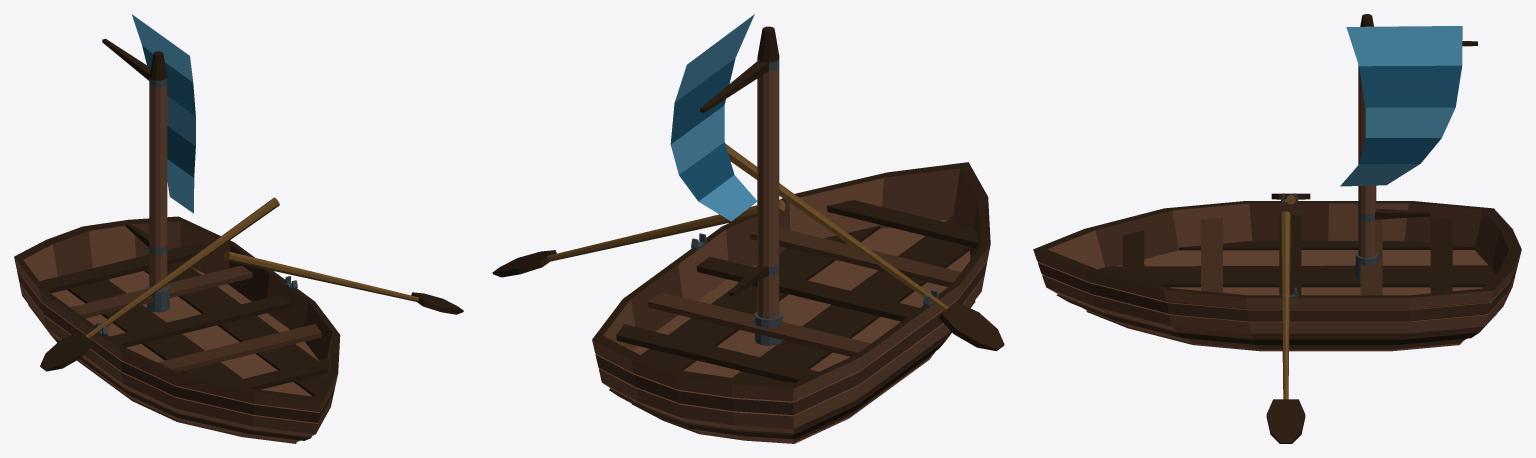
3 views of the same model, side by side, from view 1: azimuth 30°, elevation 25°; view 2: azimuth 150°, elevation 25°; view 3: azimuth 270°, elevation 25° (orthographic). The views are drawn at different scales.
Parts seen in each view (by area): view 1: Cube, Cylinder, Cube.001, Cylinder.001, Cylinder.002; view 2: Cube, Cube.001, Cylinder, Cylinder.001, Cylinder.002; view 3: Cube, Cube.001, Cylinder.002, Cylinder.
Part boxes in pixels (x1=…): Cube: x1=14, y1=216, x2=340, y2=443; Cylinder: x1=102, y1=38, x2=169, y2=312; Cube.001: x1=132, y1=14, x2=195, y2=213; Cylinder.001: x1=40, y1=197, x2=279, y2=371; Cylinder.002: x1=224, y1=251, x2=463, y2=314; Cube: x1=592, y1=162, x2=990, y2=443; Cube.001: x1=670, y1=14, x2=757, y2=221; Cylinder: x1=700, y1=26, x2=782, y2=345; Cylinder.001: x1=725, y1=143, x2=1004, y2=350; Cylinder.002: x1=492, y1=199, x2=785, y2=277; Cube: x1=1033, y1=193, x2=1521, y2=351; Cube.001: x1=1340, y1=26, x2=1462, y2=186; Cylinder.002: x1=1266, y1=211, x2=1305, y2=443; Cylinder: x1=1355, y1=14, x2=1477, y2=279.
Bounding box in the file's own units: 5.12 × 3.43 × 5.11.
Materials: 2 (2 with a texture image).
